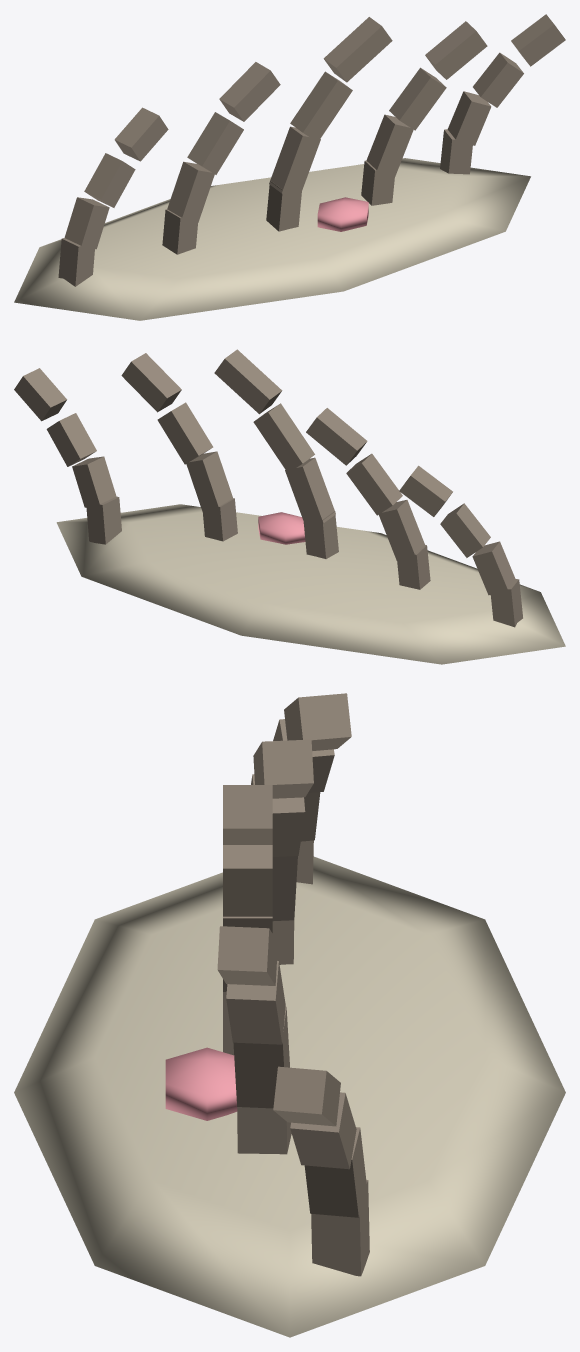
Rendered from ob_ribs.glb.
The picture shows the model from 3 angles, top to bottom: view 1: azimuth 30°, elevation 25°; view 2: azimuth 150°, elevation 25°; view 3: azimuth 270°, elevation 25°; orthographic projection. The views are drawn at different scales.
Visible parts, largest first — view 1: wreck-rib-set_0, wreck-rib-set_1, wreck-rib-set_2; view 2: wreck-rib-set_0, wreck-rib-set_1, wreck-rib-set_2; view 3: wreck-rib-set_0, wreck-rib-set_1, wreck-rib-set_2.
Boxes of the visible parts, x1,y1,x2,y2 form: wreck-rib-set_0: (14,158,530,320); wreck-rib-set_1: (58,14,565,286); wreck-rib-set_2: (317,197,368,231); wreck-rib-set_0: (56,504,565,664); wreck-rib-set_1: (14,349,522,627); wreck-rib-set_2: (258,512,305,544); wreck-rib-set_0: (14,856,565,1337); wreck-rib-set_1: (217,693,369,1276); wreck-rib-set_2: (165,1047,237,1120).
Size of the model in its own units: 4.48 by 1.78 by 2.
